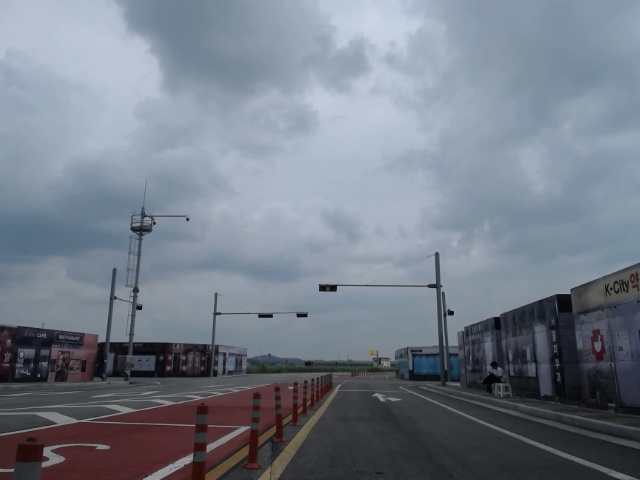orange_3: (319, 284, 337, 292)
